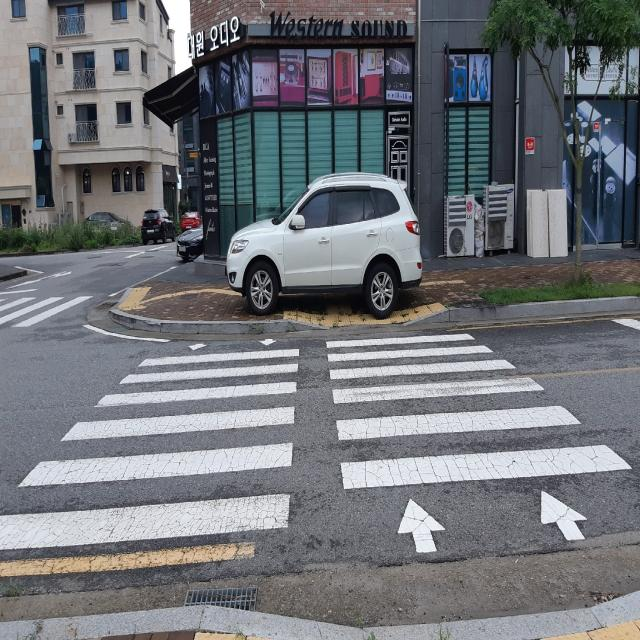횡단보도: (4, 333, 633, 554)
